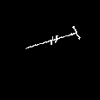treble_crochet: (28, 26, 79, 47)
